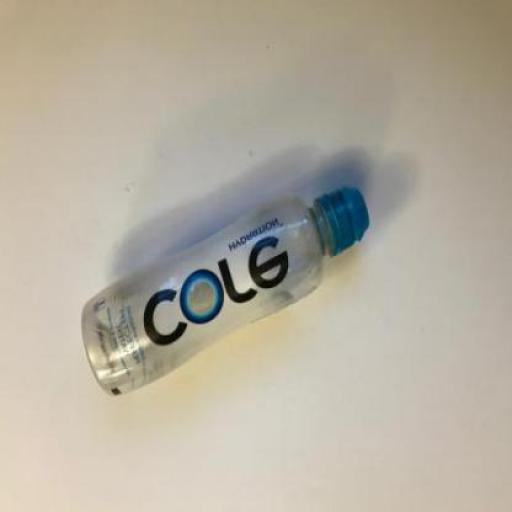plastic: (80, 190, 368, 398), (79, 196, 322, 398), (315, 180, 368, 260)
